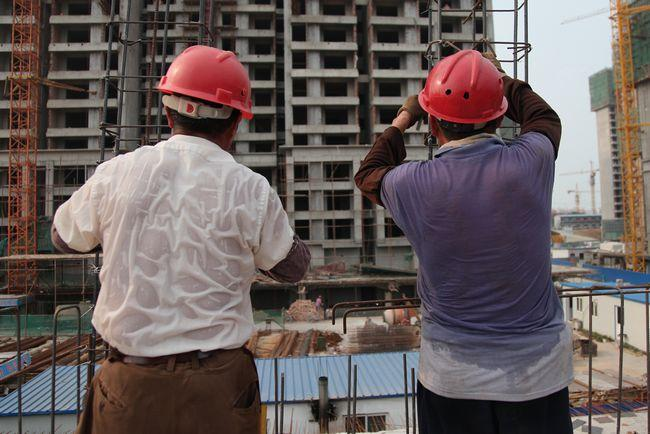helmet: (155, 47, 257, 124), (417, 50, 512, 123)
